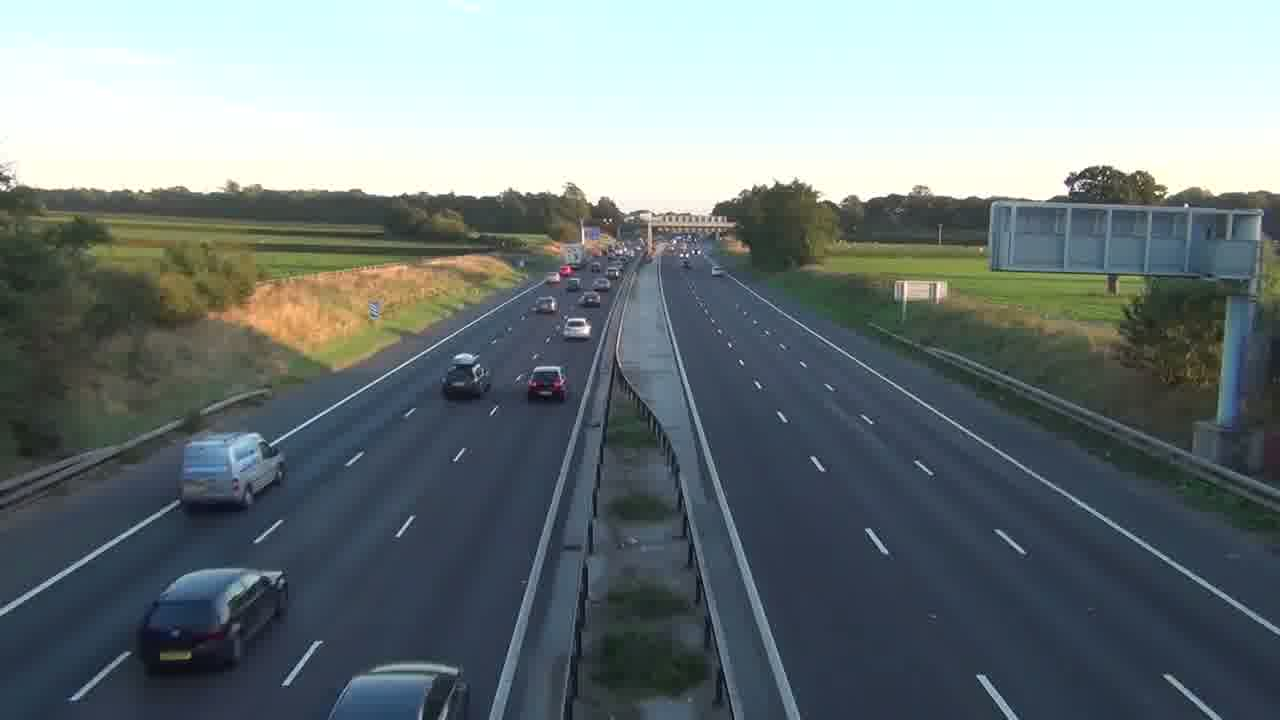car: (136, 566, 289, 674), (328, 659, 471, 719), (526, 365, 567, 402), (562, 316, 593, 340)
truck: (177, 430, 288, 510)
